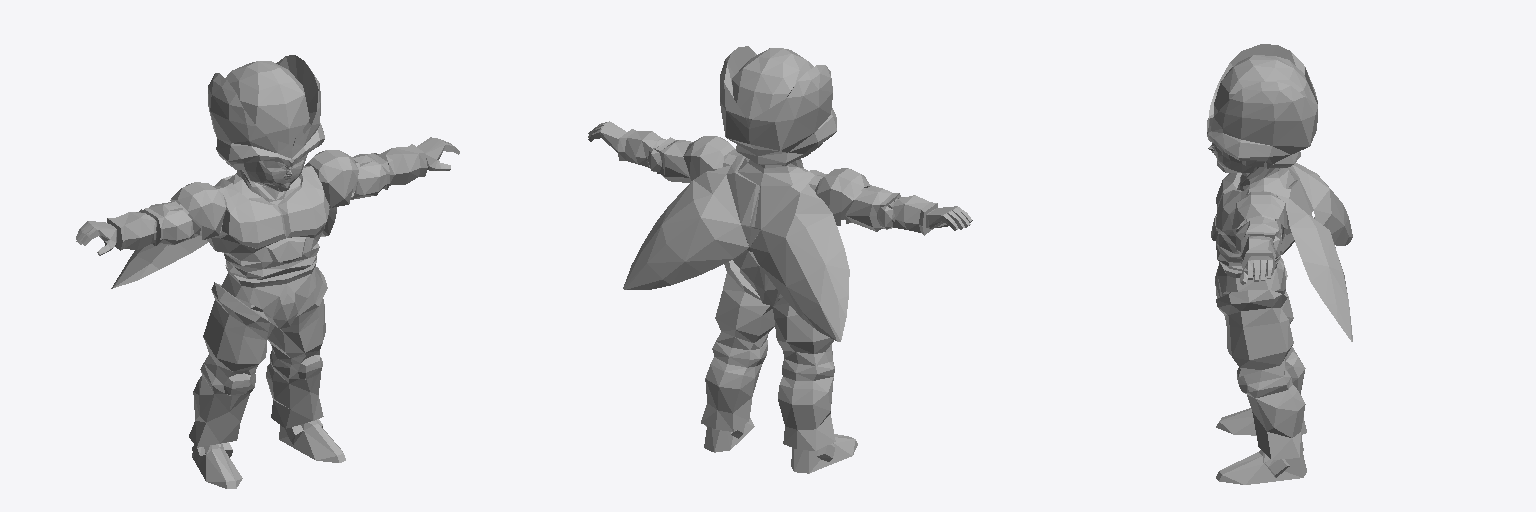
3 renders of one model, left to right at view 1: azimuth 30°, elevation 25°; view 2: azimuth 150°, elevation 25°; view 3: azimuth 270°, elevation 25°, orthographic.
Visible parts, largest first — view 1: RefRep.255, RefRep.265, RefRep.253, RefRep.269, RefRep.259, RefRep.267, RefRep.263, RefRep.261, RefRep.251; view 2: RefRep.255, RefRep.267, RefRep.253, RefRep.265, RefRep.269, RefRep.263, RefRep.261, RefRep.259; view 3: RefRep.255, RefRep.253, RefRep.265, RefRep.267, RefRep.269, RefRep.259, RefRep.261, RefRep.263.
Part boxes in pixels (x1,y1,x2,y2): RefRep.255: (110,61,359,447); RefRep.265: (144,153,389,384); RefRep.253: (107,55,427,250); RefRep.269: (192,162,345,488); RefRep.259: (139,153,378,396); RefRep.267: (111,206,336,288); RefRep.263: (76,137,459,255); RefRep.261: (227,170,300,204); RefRep.251: (253,154,307,186); RefRep.255: (683,48,934,450); RefRep.267: (623,172,849,341); RefRep.253: (617,46,937,235); RefRep.265: (655,137,900,365); RefRep.269: (704,143,857,473); RefRep.263: (588,121,972,230); RefRep.261: (738,158,807,185); RefRep.259: (646,149,894,354); RefRep.255: (1211,55,1317,459); RefRep.253: (1207,44,1317,275); RefRep.265: (1216,217,1293,384); RefRep.267: (1287,163,1352,341); RefRep.269: (1216,156,1306,484); RefRep.259: (1216,231,1294,393); RefRep.261: (1237,162,1294,190); RefRep.263: (1240,256,1272,284).
Bounding box in the file's own units: 10.79 × 10.64 × 3.59.